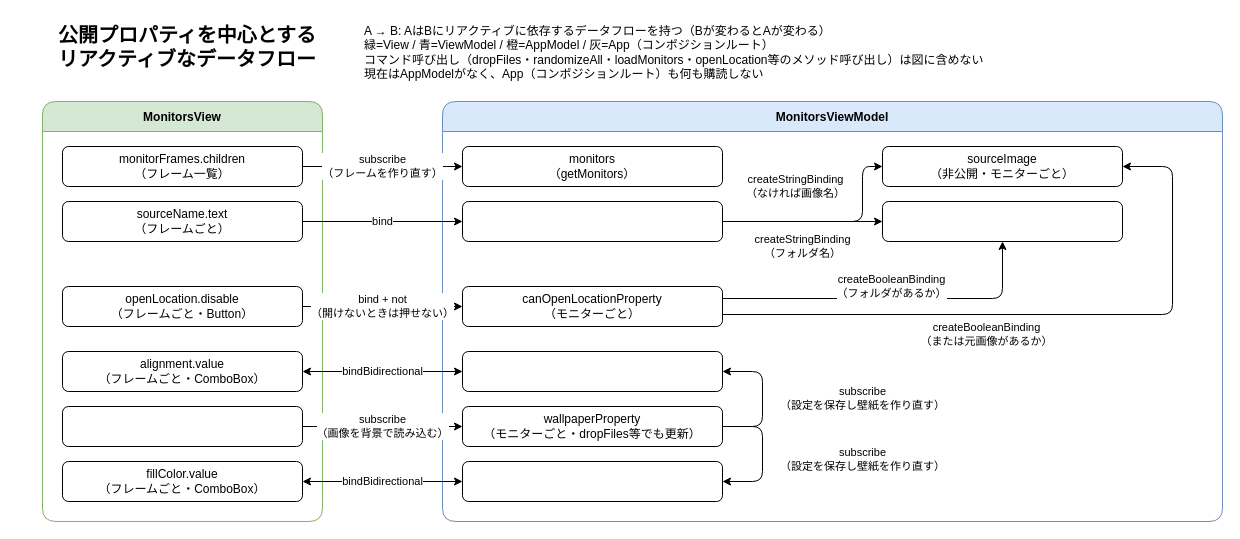
The diagram is 1240 pixels wide and 539 high, and some of its shapes have lost their labels. The shapes that lost their labels are listed below. From the top down, each one's centre as x and y in pixels, then its label:
At (x=592, y=221): "sourceNameProperty （モニターごと）".
At (x=1002, y=221): "folder （非公開・モニターごと）".
At (x=592, y=371): "alignmentProperty （モニターごと）".
At (x=182, y=426): "thumbnail.image （フレームごと・ImageView）".
At (x=592, y=481): "fillColorProperty （モニターごと）".
